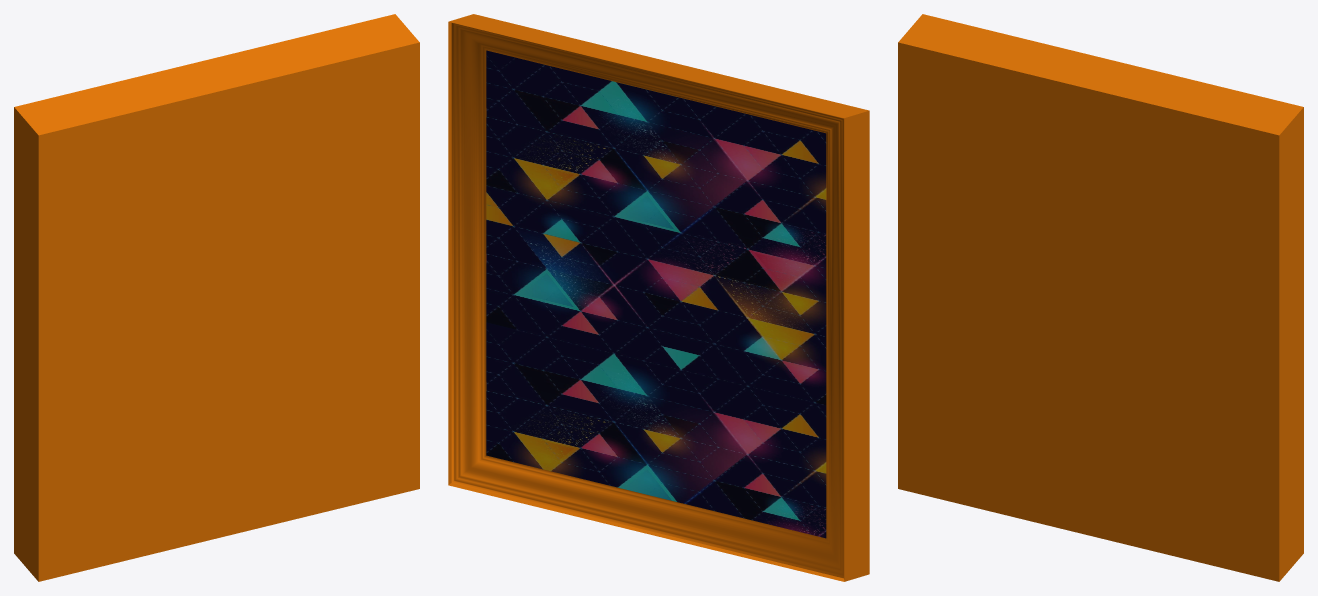
3 renders of one model, left to right at view 1: azimuth 30°, elevation 25°; view 2: azimuth 150°, elevation 25°; view 3: azimuth 330°, elevation 25°, orthographic. The views are drawn at different scales.
Visible parts, largest first — view 1: Cube; view 2: Cube; view 3: Cube.
Part boxes in pixels (x1,y1,x2,y2): Cube: (14,14,419,581); Cube: (448,14,869,581); Cube: (898,14,1303,581).
Bounding box in the file's own units: 2 × 2.29 × 0.2224.
Materials: 2 (1 with a texture image).
